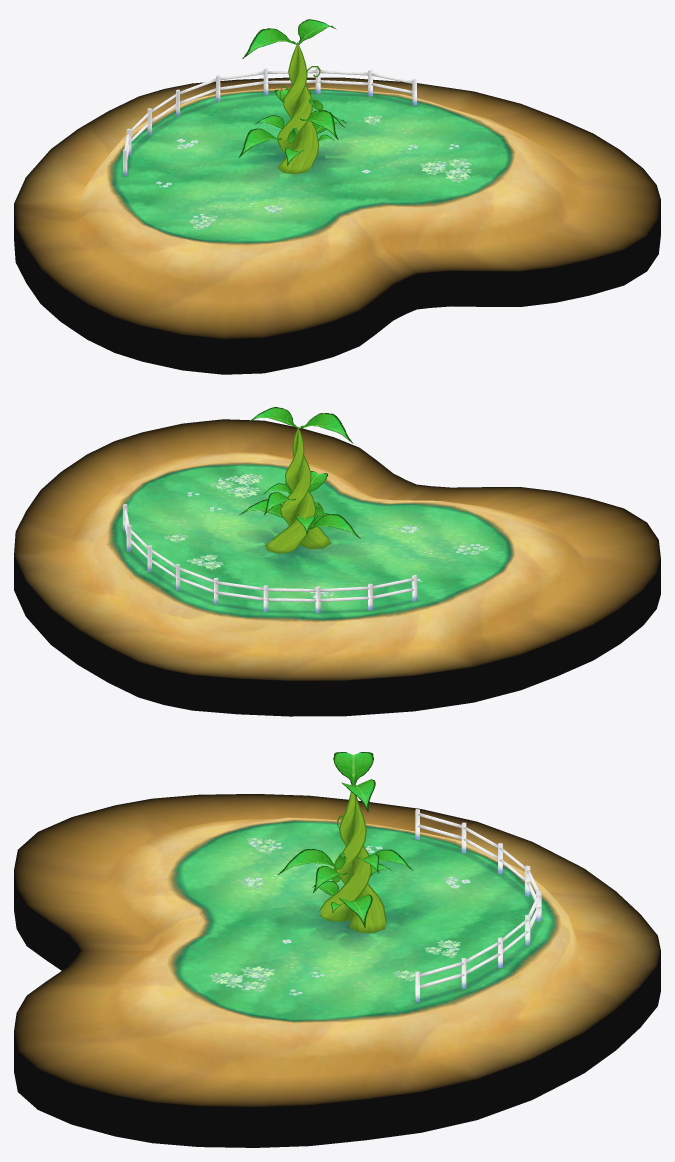
The model's file is isle_abeens_level1_baked.glb.
3 views of the same model, one above another, from view 1: azimuth 30°, elevation 25°; view 2: azimuth 150°, elevation 25°; view 3: azimuth 270°, elevation 25° (orthographic). The views are drawn at different scales.
Parts seen in each view (by area): view 1: fureai_01_model_Island_8_0, fureai_01_model_Island_7_0, fureai_01_model_Island_9_0, fureai_01_model_Shadow_0_0, fureai_01_model_Fence_3_0, fureai_01_model_Shadow_2_0, fureai_01_model_Flowerbed_5_0, fureai_01_model_Shadow_1_0, fureai_01_model_Fence_4_0; view 2: fureai_01_model_Island_8_0, fureai_01_model_Island_7_0, fureai_01_model_Island_9_0, fureai_01_model_Shadow_0_0, fureai_01_model_Fence_3_0, fureai_01_model_Shadow_2_0, fureai_01_model_Flowerbed_5_0, fureai_01_model_Shadow_1_0, fureai_01_model_Fence_4_0; view 3: fureai_01_model_Island_8_0, fureai_01_model_Island_7_0, fureai_01_model_Island_9_0, fureai_01_model_Shadow_0_0, fureai_01_model_Shadow_2_0, fureai_01_model_Fence_3_0, fureai_01_model_Flowerbed_5_0, fureai_01_model_Shadow_1_0, fureai_01_model_Fence_4_0.
Boxes of the visible parts, box(x1,y1,x2,y2) form: fureai_01_model_Island_8_0: box(14, 77, 660, 374); fureai_01_model_Island_7_0: box(119, 92, 503, 240); fureai_01_model_Island_9_0: box(106, 88, 515, 245); fureai_01_model_Shadow_0_0: box(277, 42, 323, 174); fureai_01_model_Fence_3_0: box(123, 67, 416, 176); fureai_01_model_Shadow_2_0: box(239, 19, 346, 165); fureai_01_model_Flowerbed_5_0: box(156, 115, 471, 229); fureai_01_model_Shadow_1_0: box(255, 143, 343, 180); fureai_01_model_Fence_4_0: box(122, 92, 417, 176); fureai_01_model_Island_8_0: box(14, 419, 660, 716); fureai_01_model_Island_7_0: box(119, 466, 503, 615); fureai_01_model_Island_9_0: box(106, 462, 515, 622); fureai_01_model_Shadow_0_0: box(265, 426, 330, 553); fureai_01_model_Fence_3_0: box(123, 504, 417, 613); fureai_01_model_Shadow_2_0: box(239, 407, 360, 538); fureai_01_model_Flowerbed_5_0: box(164, 473, 490, 598); fureai_01_model_Shadow_1_0: box(251, 526, 353, 564); fureai_01_model_Fence_4_0: box(122, 529, 418, 613); fureai_01_model_Island_8_0: box(14, 794, 660, 1147); fureai_01_model_Island_7_0: box(185, 823, 549, 1018); fureai_01_model_Island_9_0: box(167, 819, 561, 1023); fureai_01_model_Shadow_0_0: box(319, 783, 387, 932); fureai_01_model_Shadow_2_0: box(278, 752, 413, 927); fureai_01_model_Fence_3_0: box(415, 809, 541, 1002); fureai_01_model_Flowerbed_5_0: box(209, 837, 470, 995); fureai_01_model_Shadow_1_0: box(289, 895, 411, 944); fureai_01_model_Fence_4_0: box(413, 838, 542, 1002).
Bounding box in the file's own units: 2079 × 694 × 1814.
Materials: 9 (9 with a texture image).
